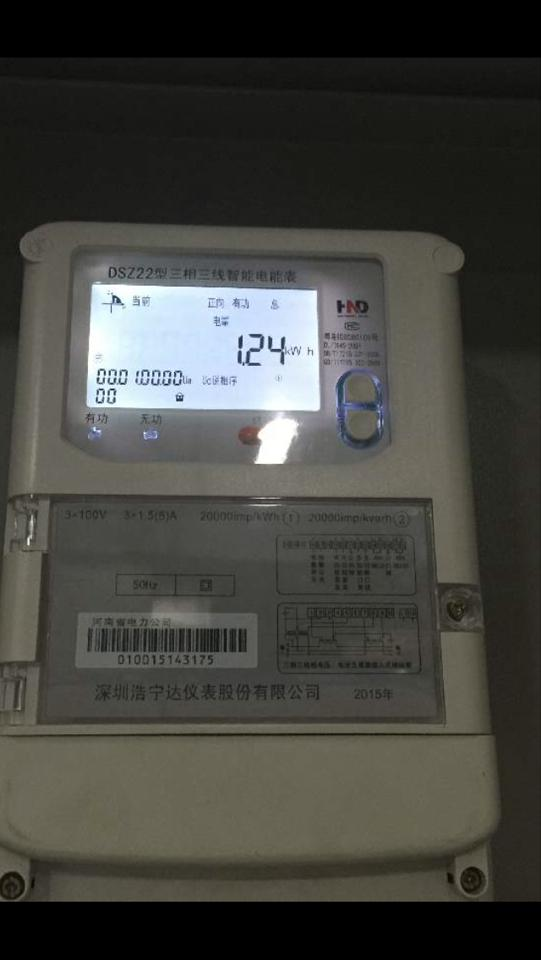digital: (1, 217, 493, 863)
